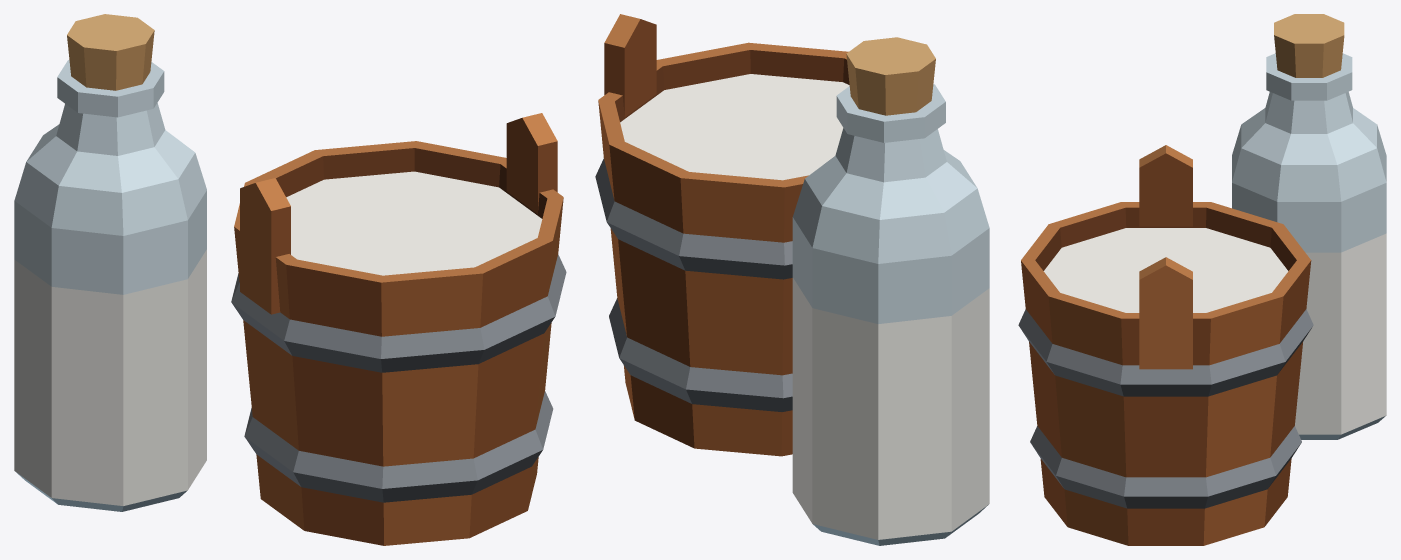
File: FMS_Food_Milk.fbx
The picture shows the model from 3 angles, left to right: view 1: azimuth 30°, elevation 25°; view 2: azimuth 150°, elevation 25°; view 3: azimuth 270°, elevation 25°; orthographic projection. The views are drawn at different scales.
Parts seen in each view (by area): view 1: item_food_milk; view 2: item_food_milk; view 3: item_food_milk.
Part boxes in pixels (left/top/right/bottom): item_food_milk: left=14, top=14, right=566, bottom=545; item_food_milk: left=595, top=14, right=989, bottom=545; item_food_milk: left=1018, top=14, right=1386, bottom=545.
Bounding box in the file's own units: 0.2369 × 0.2355 × 0.2058.
1 material, 1 textured.
